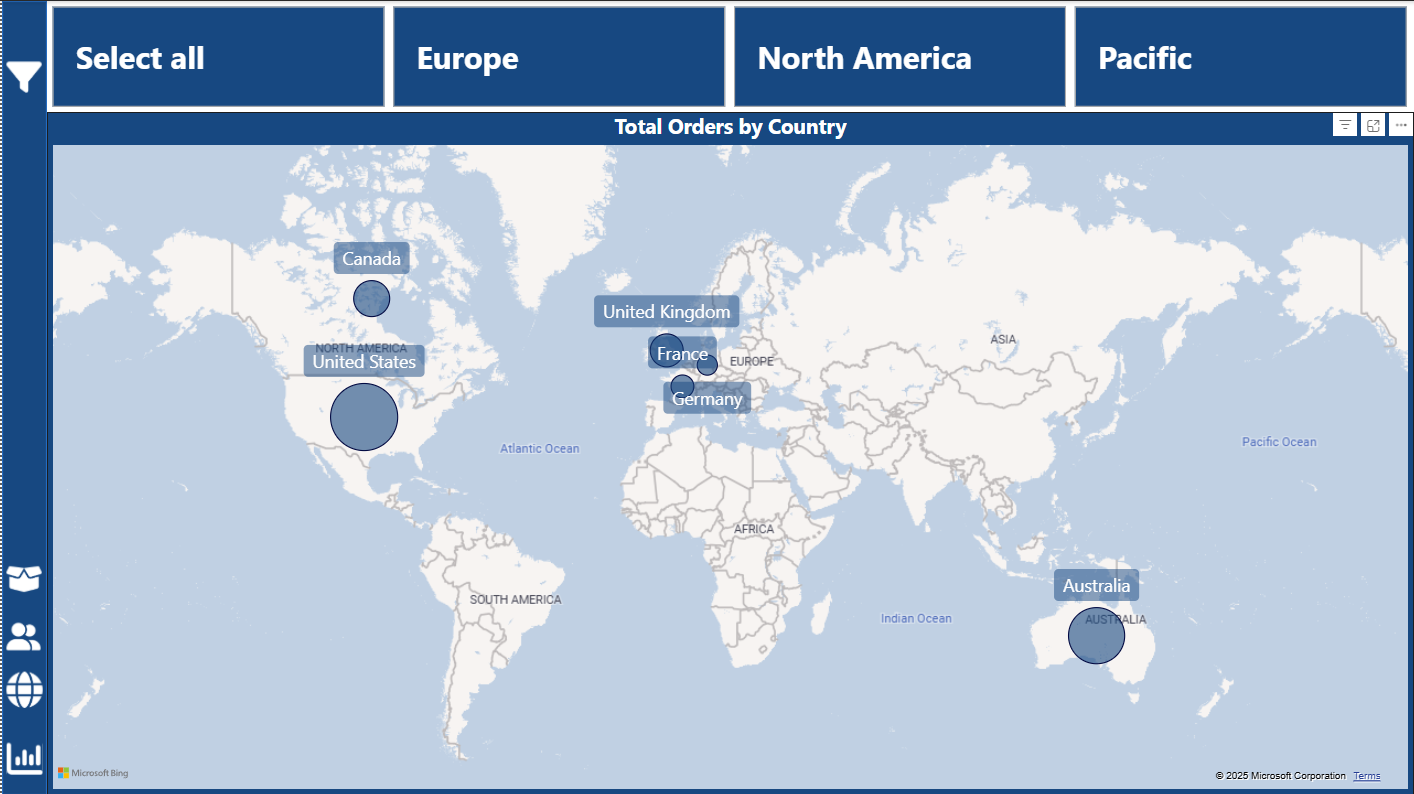

This screenshot's page, from the dashboard's own definition file:
{"tool":"powerbi","page":{"name":"Territory","canvas":[1280,720],"ordinal":3},"visuals":[{"type":"shape","box":[0,0,40.8,720],"z":0},{"type":"actionButton","box":[0,665.4,40.9,45.5],"z":0,"group":"g1"},{"type":"actionButton","box":[0,602.7,40.9,45.5],"z":1000,"group":"g1"},{"type":"map","fields":{"Category":["Territory Lookup.Country"],"Size":["Measure Table.Total Orders"]},"box":[40.7,101.1,1239.3,619.1],"z":1000},{"type":"advancedSlicerVisual","fields":{"Values":["Territory Lookup.Continent"]},"box":[40.7,0,1239.3,101.1],"z":2000},{"type":"actionButton","box":[0,557.2,40.9,39.1],"z":2000,"group":"g1"},{"type":"actionButton","box":[0,504.5,40.9,40],"z":3000,"group":"g1"},{"type":"group","id":"g1","title":"Page Bookmarks","box":[0,504.5,40.9,206.4],"z":3000},{"type":"actionButton","box":[0,49.1,40.9,40],"z":4000}]}

Visuals, with their boxes in screenshot pixels (x1, y1, x2, y2):
shape: [left=4, top=0, right=48, bottom=781]
actionButton: [left=4, top=721, right=48, bottom=771]
actionButton: [left=4, top=653, right=48, bottom=703]
map - Territory Lookup.Country x Measure Table.Total Orders: [left=48, top=106, right=1398, bottom=781]
advancedSlicerVisual - Territory Lookup.Continent: [left=48, top=0, right=1398, bottom=106]
actionButton: [left=4, top=603, right=48, bottom=646]
actionButton: [left=4, top=546, right=48, bottom=590]
"Page Bookmarks" group: [left=4, top=546, right=48, bottom=771]
actionButton: [left=4, top=50, right=48, bottom=93]
